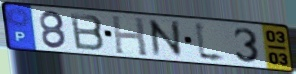3: (232, 27, 261, 64)
8: (38, 9, 68, 50)
B: (68, 12, 107, 52)
H: (109, 14, 149, 58)
L: (193, 20, 230, 66)
N: (146, 18, 186, 58)
